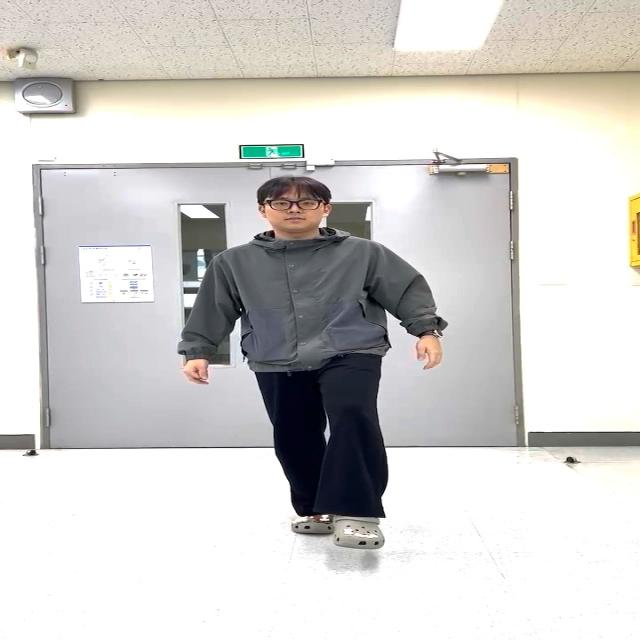leg: (310, 347, 398, 550)
